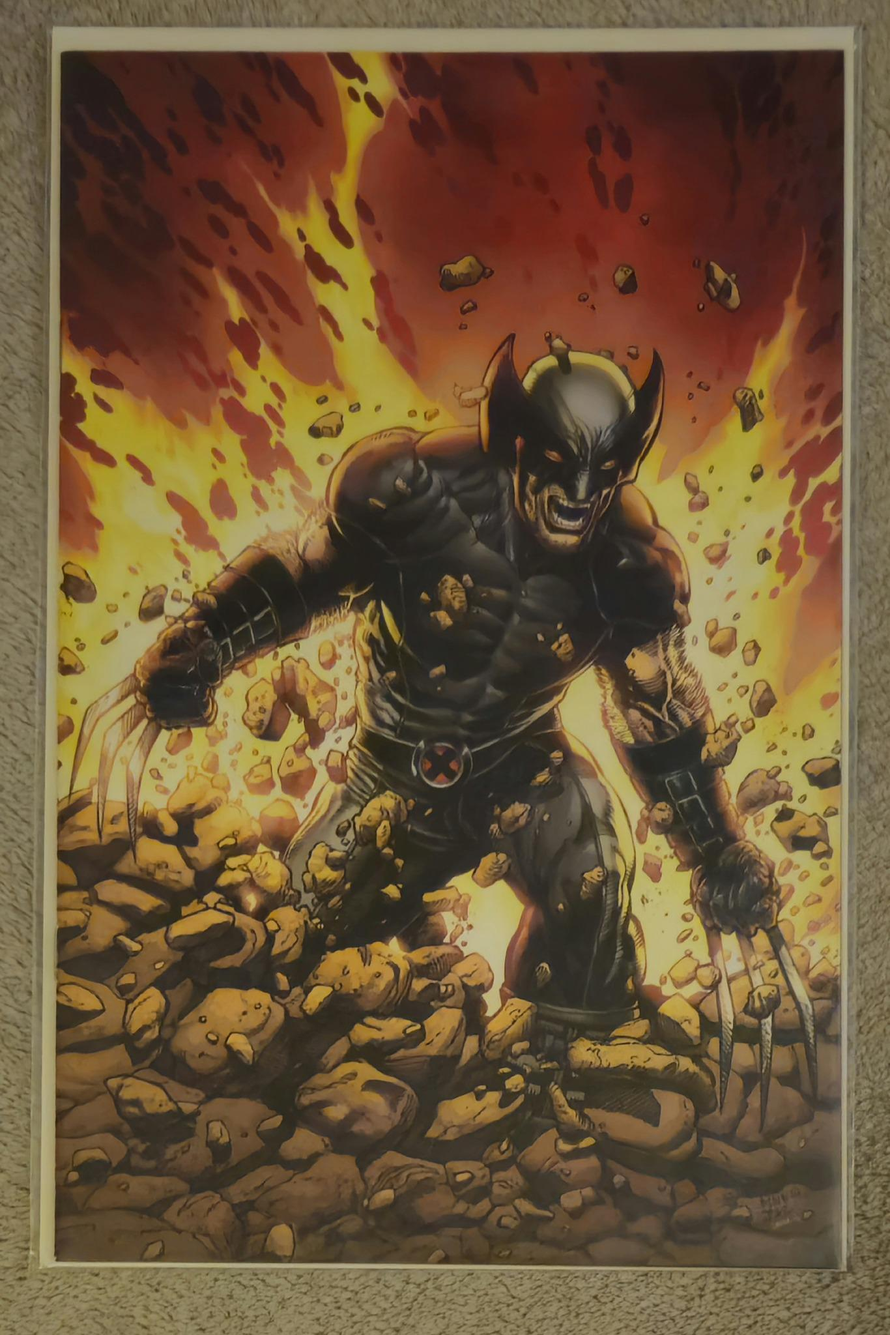comic: (40, 22, 857, 1272)
